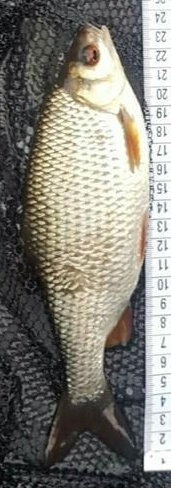Rutilus rutilus: (20, 20, 151, 468)
